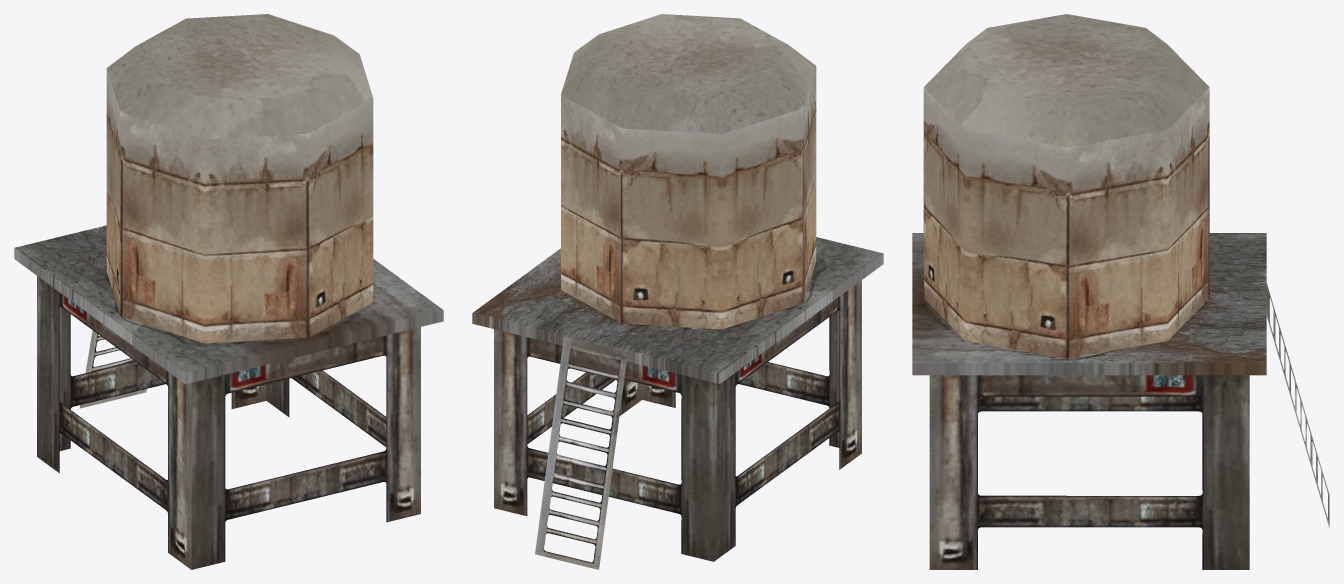
File: watertower_hdtex.glb
3 renders of one model, left to right at view 1: azimuth 30°, elevation 25°; view 2: azimuth 150°, elevation 25°; view 3: azimuth 270°, elevation 25°, orthographic. The views are drawn at different scales.
Visible parts, largest first — view 1: WaterTower; view 2: WaterTower; view 3: WaterTower.
Boxes of the visible parts, bbox=[...] form: WaterTower: bbox=[14, 14, 443, 569]; WaterTower: bbox=[472, 14, 883, 569]; WaterTower: bbox=[912, 14, 1329, 569].
Bounding box in the file's own units: 5.82 × 9.37 × 7.86.
1 material, 1 textured.
